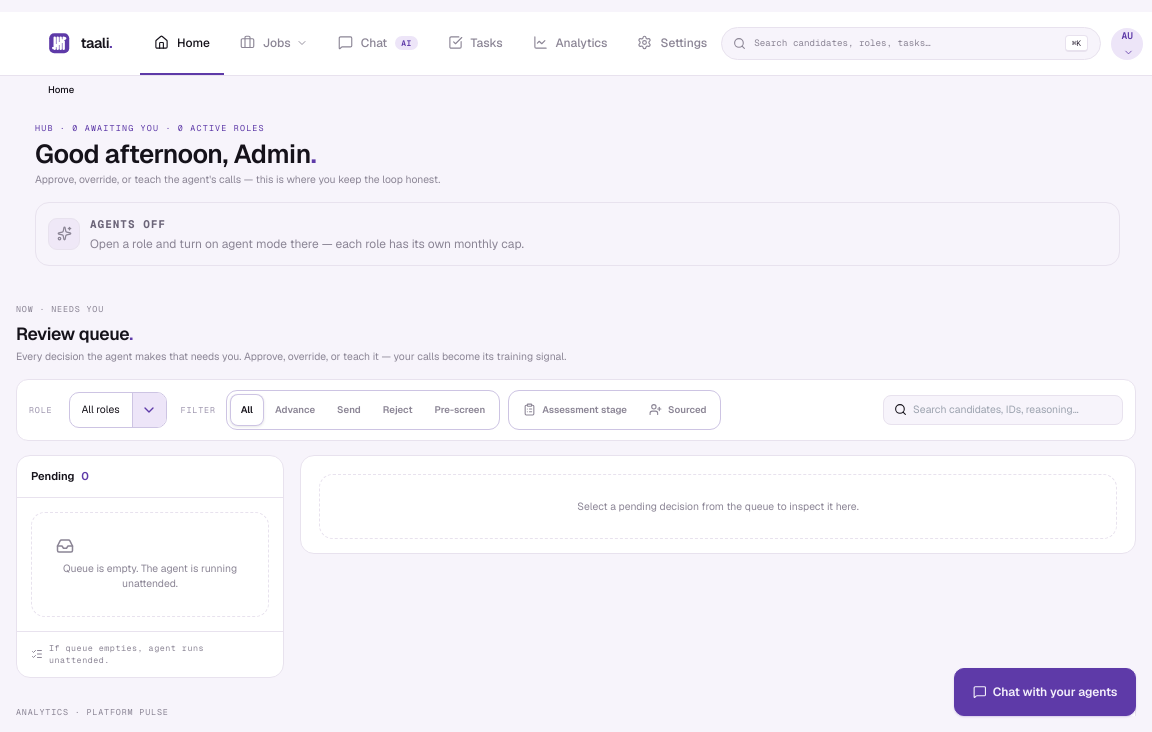
Test case: TasksPage › shows empty state when no tasks exist
Click the link "Tasks": (475,42) [448,34,503,50]
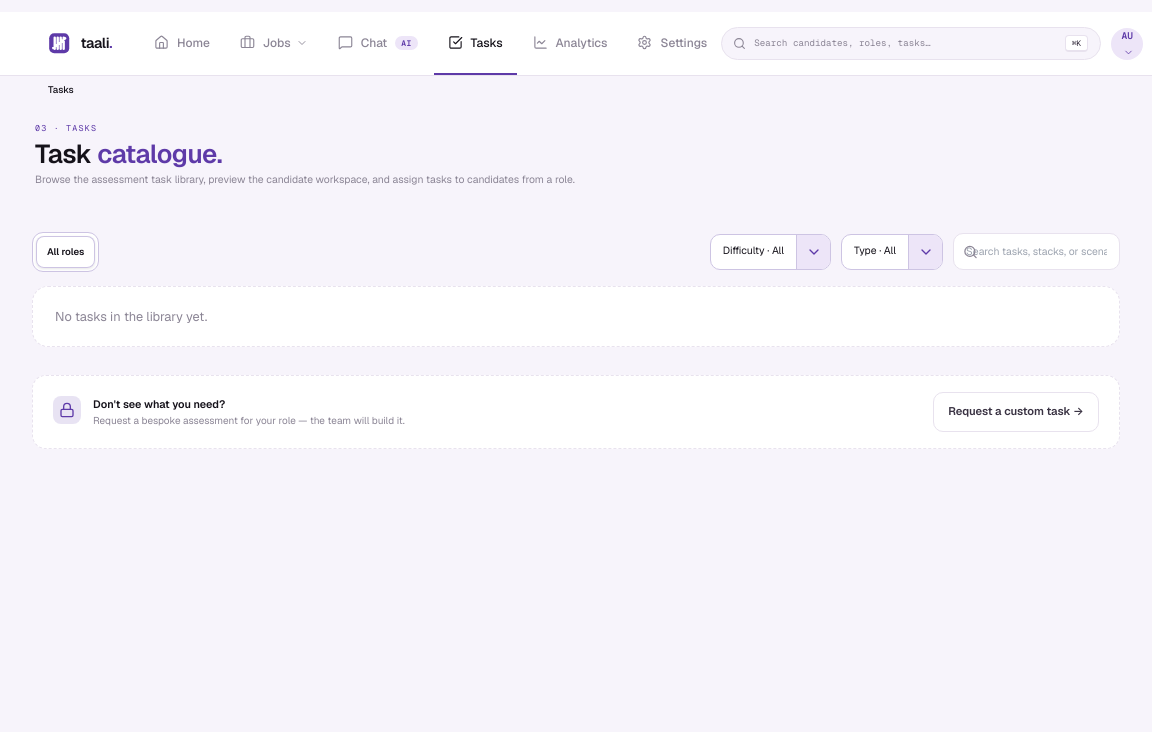
Now the heading "Task catalogue." is shown, box [35,137,222,171]
Now the text "No tasks in the library yet." is shown, box [32,286,1120,347]
